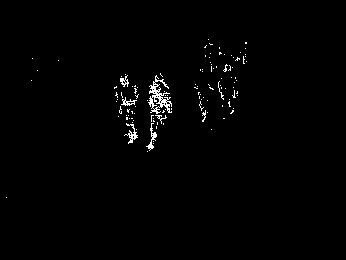person: (147, 72, 173, 152), (112, 73, 137, 143), (217, 63, 241, 119), (194, 68, 214, 123)
